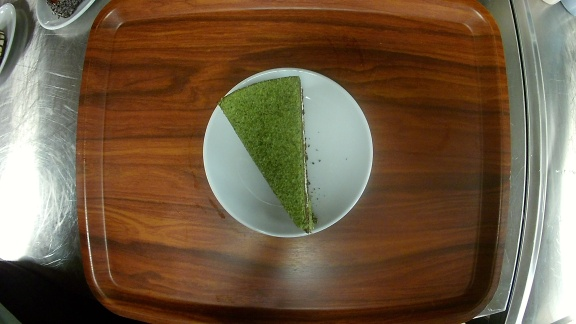fistiklipasta: (204, 67, 372, 236)
